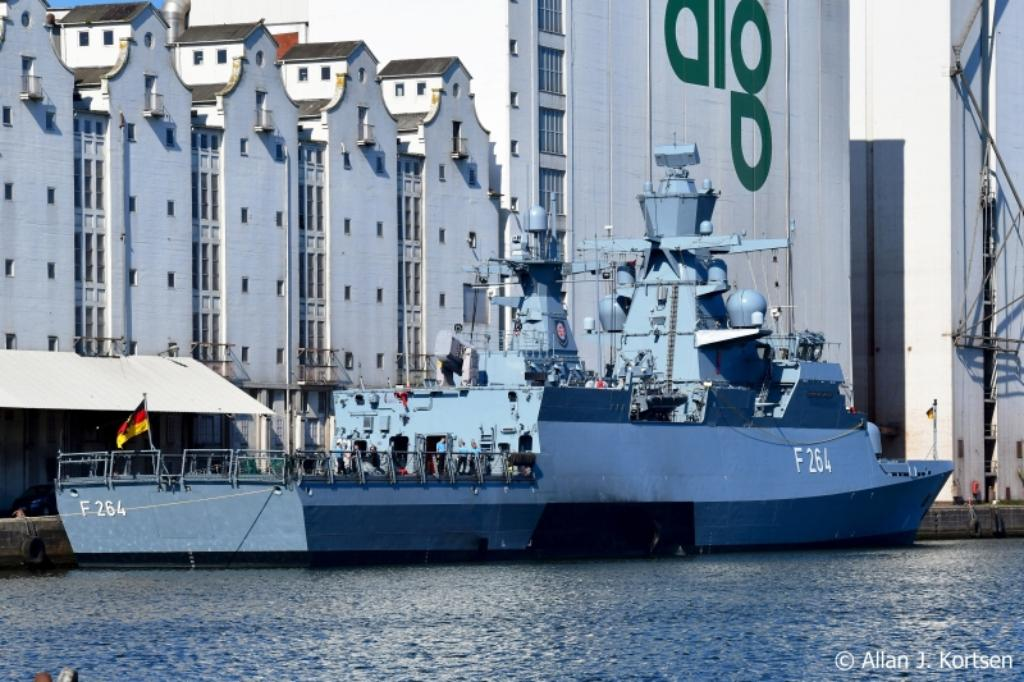Warship: (54, 131, 960, 563)
